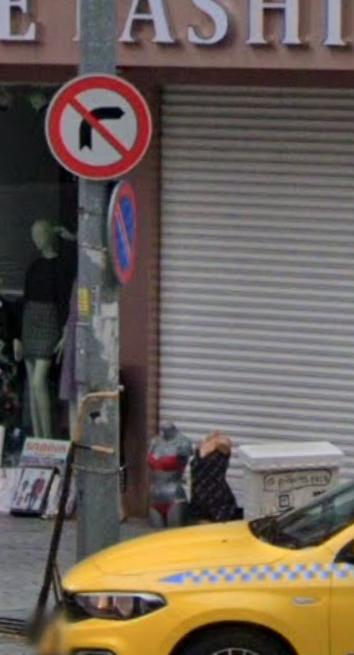rightturnsareforbidden: (46, 75, 149, 171)
